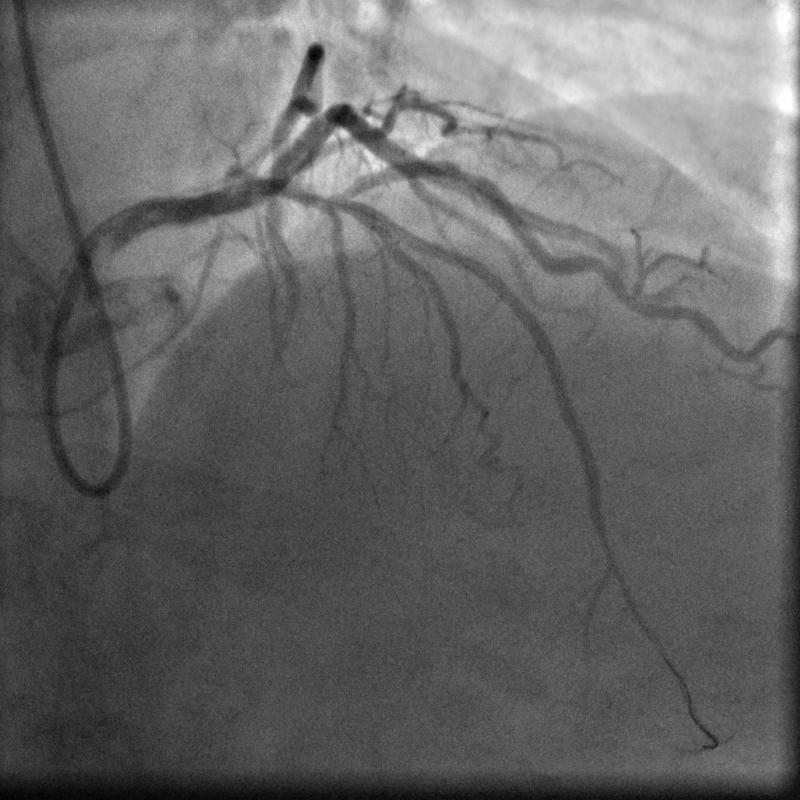Stenosis: (439, 155, 491, 194)
